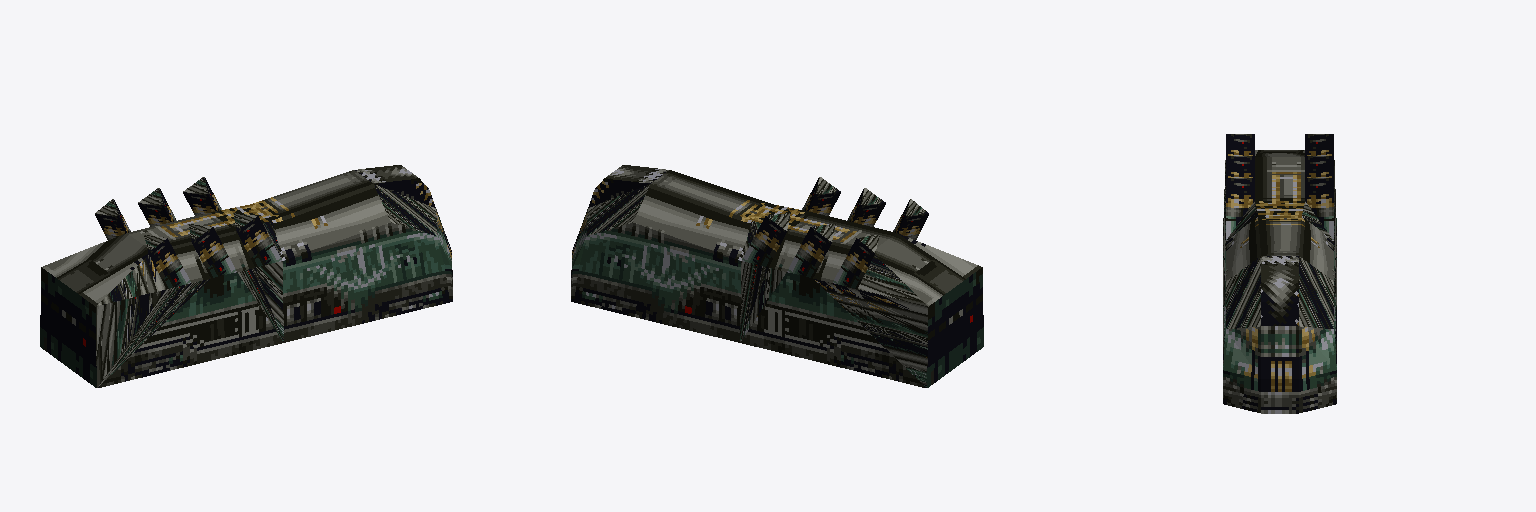
The picture shows the model from 3 angles: view 1: azimuth 30°, elevation 25°; view 2: azimuth 150°, elevation 25°; view 3: azimuth 270°, elevation 25°; orthographic projection.
Size of the model in its own units: 7.76 by 2.61 by 2.04.
1 materials, 1 textured.